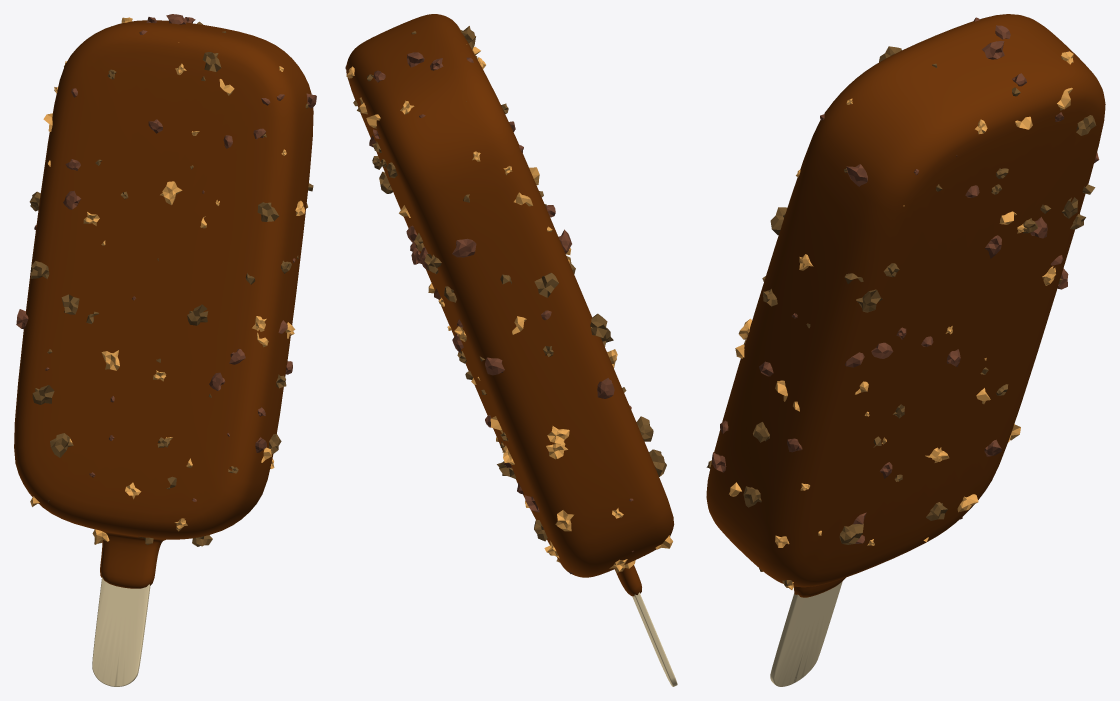
File: j22tis.glb
3 renders of one model, left to right at view 1: azimuth 30°, elevation 25°; view 2: azimuth 150°, elevation 25°; view 3: azimuth 270°, elevation 25°, orthographic. The views are drawn at different scales.
Parts seen in each view (by area): view 1: Glasuur, Pulk; view 2: Glasuur, Pulk; view 3: Glasuur, Pulk.
Boxes of the visible parts, x1,y1,x2,y2 form: Glasuur: (14,20,313,588); Pulk: (92,577,150,686); Glasuur: (346,14,673,596); Pulk: (632,592,677,686); Glasuur: (706,14,1105,597); Pulk: (770,581,842,686).
Size of the model in its own units: 0.0643 by 0.1264 by 0.0624.
